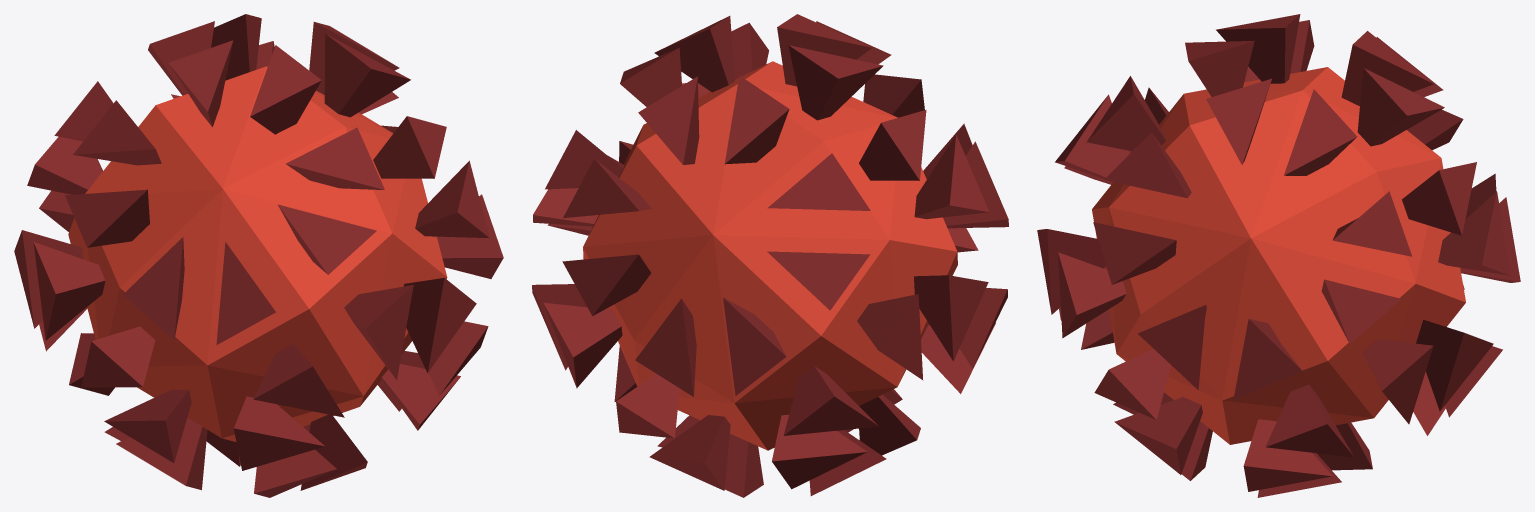
Rendered from apocalypse_covid.fbx.
3 renders of one model, left to right at view 1: azimuth 30°, elevation 25°; view 2: azimuth 150°, elevation 25°; view 3: azimuth 270°, elevation 25°, orthographic.
Visible parts, largest first — view 1: apocalypse_covid; view 2: apocalypse_covid; view 3: apocalypse_covid.
Part boxes in pixels (box(x1,y1,x2,y2)): apocalypse_covid: box(14, 14, 503, 497); apocalypse_covid: box(532, 14, 1008, 497); apocalypse_covid: box(1037, 14, 1520, 497).
Size of the model in its own units: 200 by 198 by 199.
